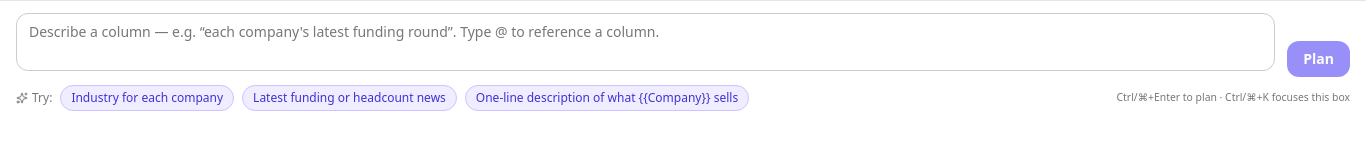
Test: @ column autocomplete › arrow keys + Enter pick the highlighted suggestion
Type "size by @" into the text box named "Describe the column to add".
click(646, 42); type("size by @")  # box [16, 13, 1275, 71]
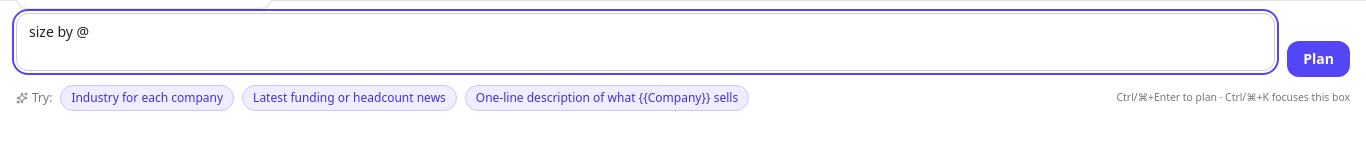
Press Arrowdown Enter
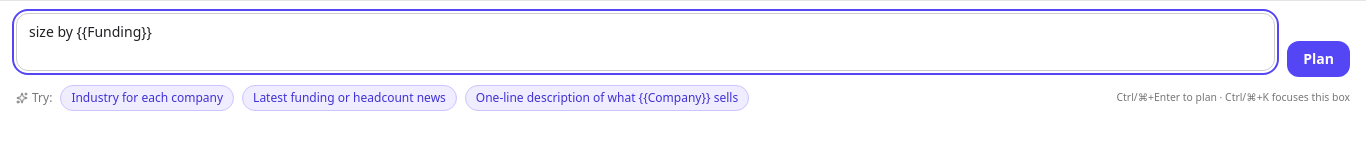
Now the text box named "Describe the column to add" holds "size by {{Funding}}", box [16, 13, 1275, 71]
